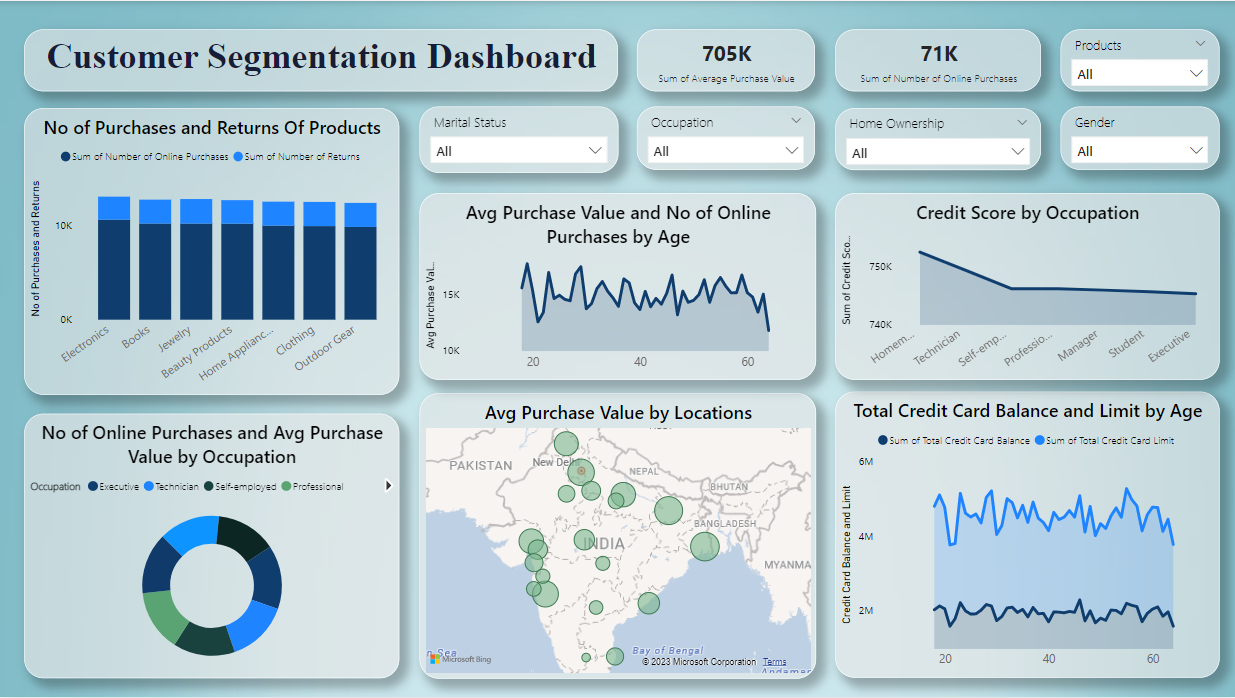

What the dashboard file says about the page in this screenshot:
{"tool":"powerbi","page":{"name":"Page 1","canvas":[1280,720],"ordinal":0},"visuals":[{"type":"textbox","box":[25.7,28.6,614.3,64.3],"z":0},{"type":"stackedAreaChart","title":"Total Credit Card Balance and Limit by Age","fields":{"Category":["Dataset.Age"],"Y":["Sum(Dataset.Total Credit Card Balance)","Sum(Dataset.Total Credit Card Limit)"]},"box":[864.3,404.3,397.1,295.7],"z":1000},{"type":"card","fields":{"Values":["Sum(Dataset.Average Purchase Value)"]},"box":[660,28.6,184.3,64.3],"z":2000},{"type":"card","fields":{"Values":["Sum(Dataset.Number of Online Purchases)"]},"box":[864.3,28.6,212.9,64.3],"z":3000},{"type":"clusteredColumnChart","title":"No of Purchases and Returns Of Products","fields":{"Category":["Dataset.Products Purchased"],"Y":["Sum(Dataset.Number of Online Purchases)","Sum(Dataset.Number of Returns)"]},"box":[26.1,110.8,387.7,296.5],"z":4000},{"type":"map","title":"Avg Purchase Value by Locations","fields":{"Size":["Sum(Dataset.Average Purchase Value)"],"Category":["Dataset.Locations"]},"box":[435,405,410,295],"z":5000},{"type":"slicer","fields":{"Values":["Dataset.Products Purchased"]},"box":[1097.1,28.6,164.3,64.3],"z":6000},{"type":"stackedAreaChart","title":"Avg Purchase Value and No of Online Purchases by Age","fields":{"Category":["Dataset.Age"],"Y":["Sum(Dataset.Average Purchase Value)"]},"box":[434.3,198.6,410,192.9],"z":7000},{"type":"donutChart","title":"No of Online Purchases and Avg Purchase Value by Occupation","fields":{"Category":["Dataset.Occupation"],"Y":["Sum(Dataset.Number of Online Purchases)"]},"box":[26.2,425.2,388.2,274.2],"z":8000},{"type":"slicer","fields":{"Values":["Dataset.Gender"]},"box":[1097.1,108.6,164.3,65.7],"z":9000},{"type":"slicer","fields":{"Values":["Dataset.Occupation"]},"box":[660,108.6,184.3,65.7],"z":10000},{"type":"areaChart","title":"Credit Score by Occupation","fields":{"Category":["Dataset.Occupation"],"Y":["Sum(Dataset.Credit Score)"],"Y2":["Sum(Dataset.Income)"]},"box":[864.3,198.6,397.1,192.9],"z":11000},{"type":"slicer","fields":{"Values":["Dataset.Marital Status"]},"box":[434.3,108.6,205.7,68.6],"z":12000},{"type":"slicer","fields":{"Values":["Dataset.Home Ownership"]},"box":[864.3,110,212.9,64.3],"z":13000}]}

Visuals, with their boxes in screenshot pixels (x1, y1, x2, y2), scaled from the page's 1280x720 canvas onto the 1235x698 screenshot:
textbox: BBox(25, 28, 618, 90)
"Total Credit Card Balance and Limit by Age" stackedAreaChart: BBox(834, 392, 1217, 679)
card - Sum(Dataset.Average Purchase Value): BBox(637, 28, 815, 90)
card - Sum(Dataset.Number of Online Purchases): BBox(834, 28, 1039, 90)
"No of Purchases and Returns Of Products" clusteredColumnChart: BBox(25, 107, 399, 395)
"Avg Purchase Value by Locations" map: BBox(420, 393, 815, 679)
slicer - Dataset.Products Purchased: BBox(1059, 28, 1217, 90)
"Avg Purchase Value and No of Online Purchases by Age" stackedAreaChart: BBox(419, 193, 815, 380)
"No of Online Purchases and Avg Purchase Value by Occupation" donutChart: BBox(25, 412, 400, 678)
slicer - Dataset.Gender: BBox(1059, 105, 1217, 169)
slicer - Dataset.Occupation: BBox(637, 105, 815, 169)
"Credit Score by Occupation" areaChart: BBox(834, 193, 1217, 380)
slicer - Dataset.Marital Status: BBox(419, 105, 618, 172)
slicer - Dataset.Home Ownership: BBox(834, 107, 1039, 169)
